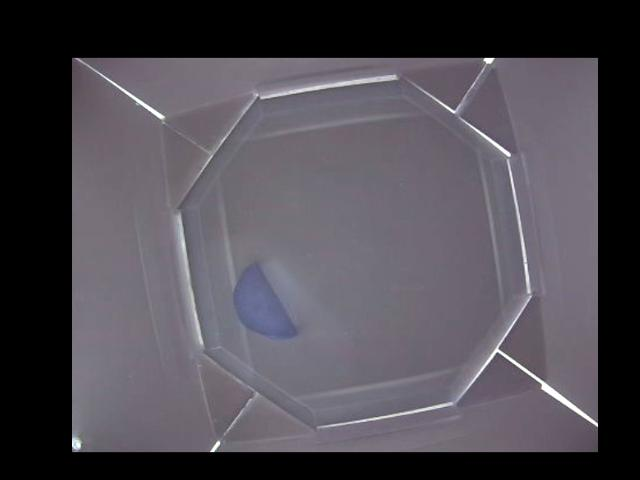Mooli: (230, 261, 299, 338)
